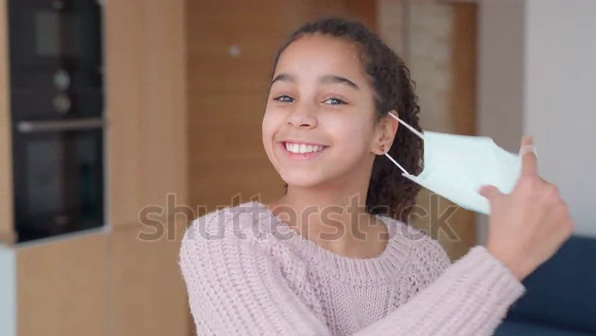No Mask: (250, 115, 372, 187)
